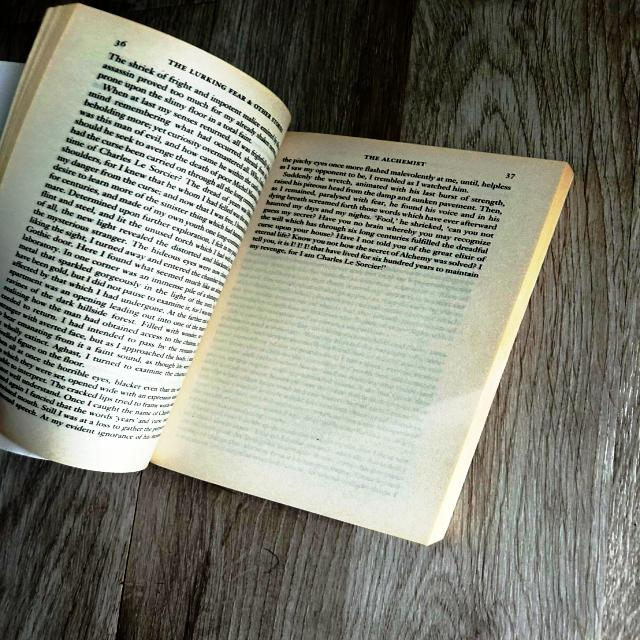Book: (150, 130, 577, 547), (0, 1, 292, 473)
